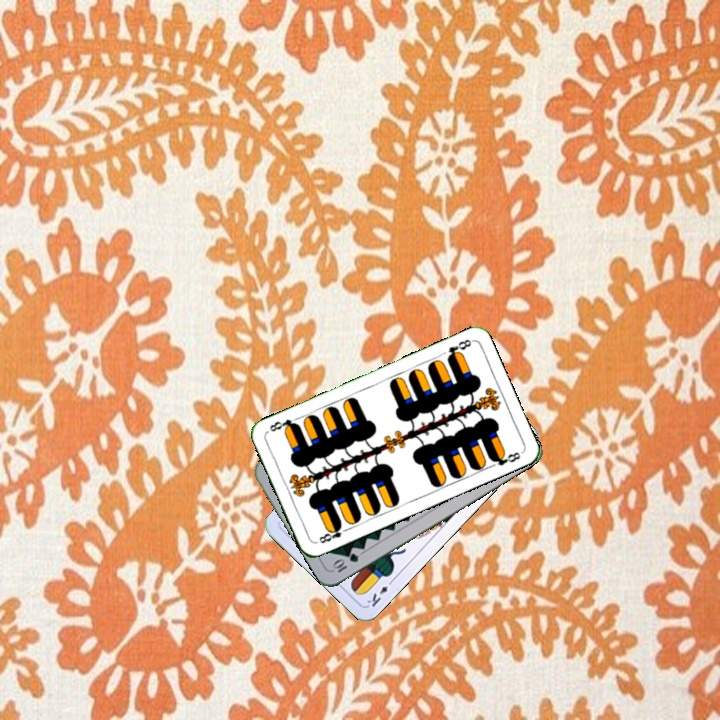E8: (315, 520, 351, 546), (443, 335, 474, 363)
EK: (363, 575, 397, 609)
G10: (329, 549, 361, 575)
